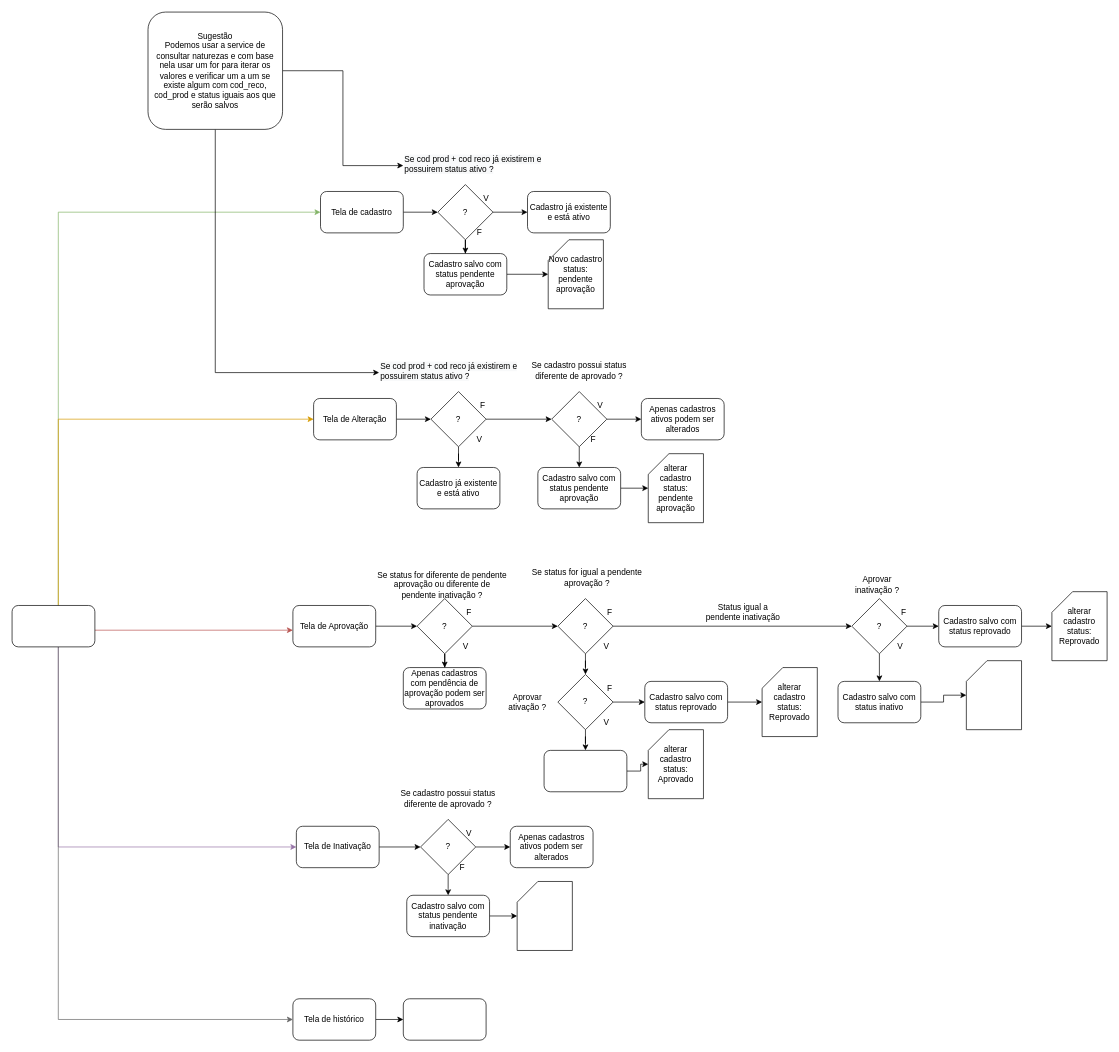
Some shapes in this 1119 by 1052 pixel diagram are drawn without their labels. The shapes that lost their labels are listed below. From the top down, each one's centre as x and y in pixels, then its label:
point (53, 626): Tela de consulta
point (994, 695): alterar cadastro status: Inativo
point (585, 771): Cadastro salvo com status aprovado
point (544, 915): alterar cadastro status: pendente inativação
point (444, 1019): Exibe detalhes da natureza selecionada
